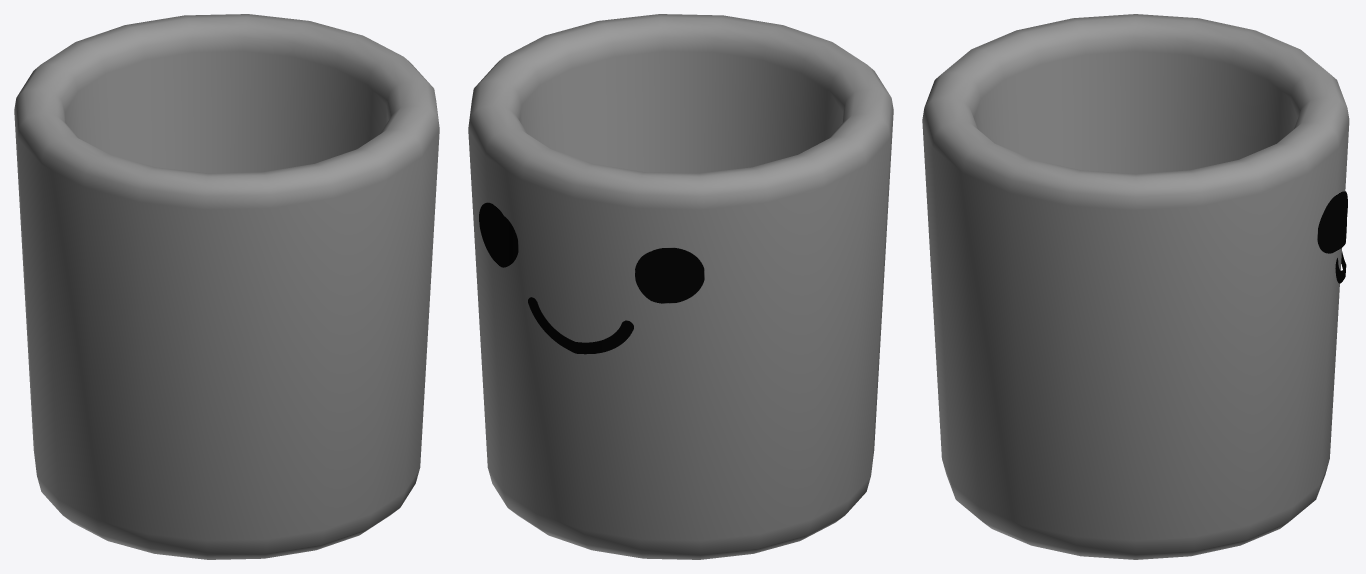
Rendered from glass_smile.fbx.
3 renders of one model, left to right at view 1: azimuth 30°, elevation 25°; view 2: azimuth 150°, elevation 25°; view 3: azimuth 270°, elevation 25°, orthographic.
Parts seen in each view (by area): view 1: glass; view 2: glass, smile; view 3: glass, smile.
Part boxes in pixels (x1,y1,x2,y2): glass: (14, 14, 439, 559); glass: (468, 14, 893, 559); smile: (479, 202, 704, 354); glass: (922, 14, 1349, 559); smile: (1317, 191, 1347, 283).
Size of the model in its own units: 66.11 by 66.66 by 66.45.
